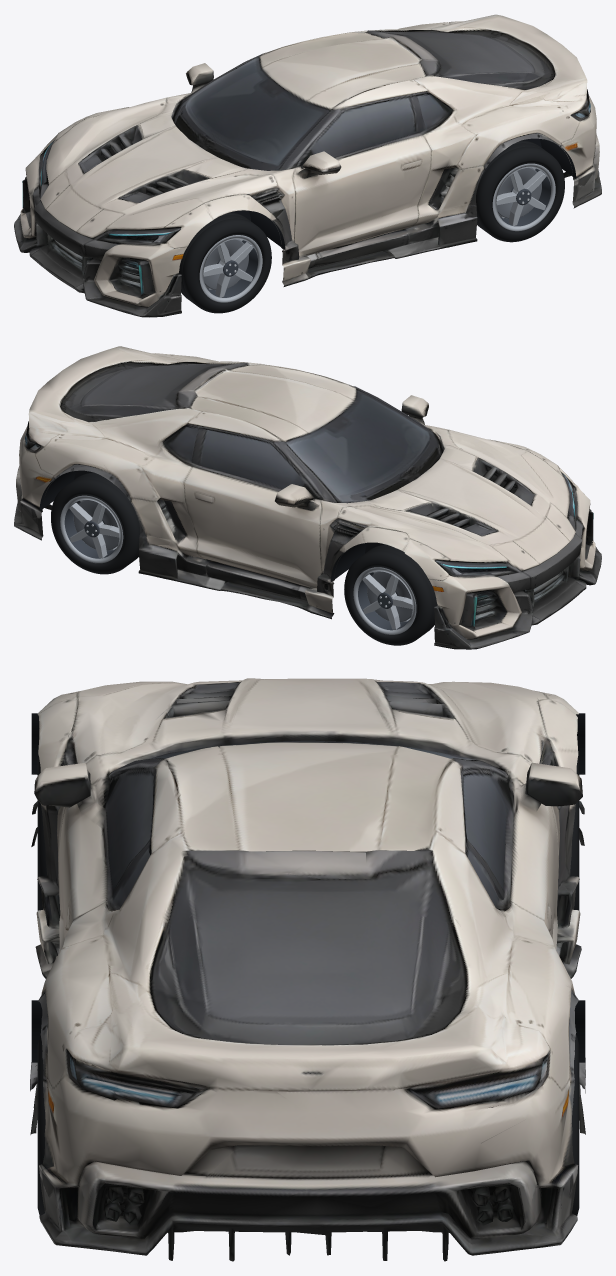
Rendered from cybercar.glb.
The picture shows the model from 3 angles, top to bottom: view 1: azimuth 30°, elevation 25°; view 2: azimuth 150°, elevation 25°; view 3: azimuth 270°, elevation 25°; orthographic projection. The views are drawn at different scales.
Parts seen in each view (by area): view 1: cybercar_chassis, wheel_front_right, wheel_rear_right, cybercar_wheel_wells; view 2: cybercar_chassis, wheel_front_left, wheel_rear_left, cybercar_wheel_wells; view 3: cybercar_chassis, cybercar_wheel_wells, wheel_rear_right, wheel_rear_left, wheel_front_left, wheel_front_right.
Boxes of the visible parts, x1,y1,x2,y2 form: cybercar_chassis: (14,14,601,317); wheel_front_right: (179,212,271,313); wheel_rear_right: (476,140,564,242); cybercar_wheel_wells: (218,138,576,263); cybercar_chassis: (14,346,601,649); wheel_front_left: (344,544,436,645); wheel_rear_left: (51,472,139,574); cybercar_wheel_wells: (39,470,397,595); cybercar_chassis: (30,678,585,1261); cybercar_wheel_wells: (31,713,585,1062); wheel_rear_right: (37,1035,45,1215); wheel_rear_left: (571,1035,579,1215); wheel_front_left: (570,756,579,910); wheel_front_right: (37,756,46,910).
Size of the model in its own units: 0.9787 by 0.2928 by 0.4579.
Materials: 2 (2 with a texture image).
